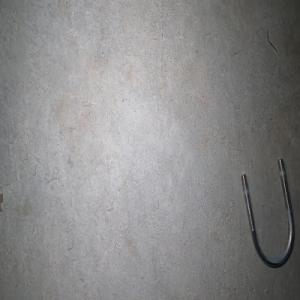ClampPart: (240, 157, 295, 269)
